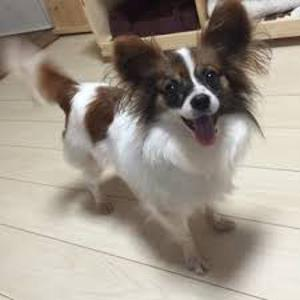yell: (0, 0, 268, 274)
